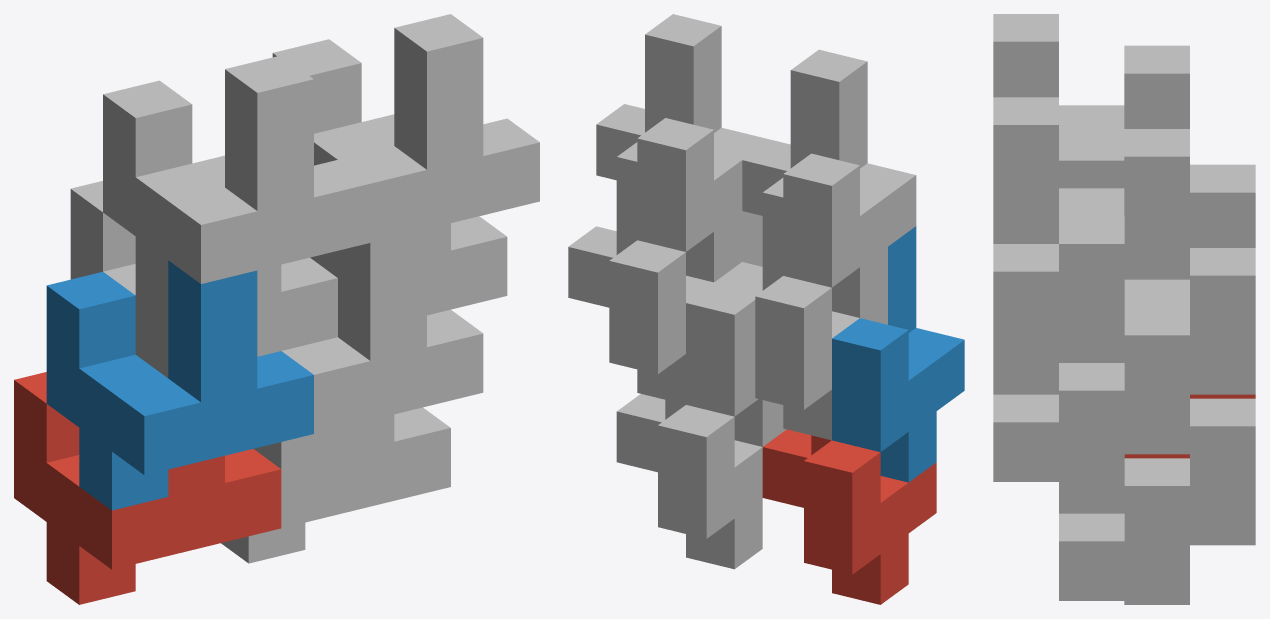
The model's file is tiling.obj.
3 renders of one model, left to right at view 1: azimuth 30°, elevation 25°; view 2: azimuth 150°, elevation 25°; view 3: azimuth 270°, elevation 25°, orthographic. The views are drawn at different scales.
Visible parts, largest first — view 1: copy_1_domain_2, copy_1_domain_4, copy_1_domain_8, copy_1_domain_1, copy_1_domain_6, copy_1_domain_5, copy_1_domain_3, copy_1_domain_7; view 2: copy_1_domain_4, copy_1_domain_8, copy_1_domain_2, copy_1_domain_1, copy_1_domain_5, copy_1_domain_7, copy_1_domain_3, copy_1_domain_6; view 3: copy_1_domain_7, copy_1_domain_5, copy_1_domain_8, copy_1_domain_4, copy_1_domain_6, copy_1_domain_3, copy_1_domain_1.
Boxes of the visible parts, x1,y1,x2,y2 form: copy_1_domain_2: [46, 260, 313, 510]; copy_1_domain_4: [103, 55, 370, 318]; copy_1_domain_8: [272, 14, 539, 277]; copy_1_domain_1: [14, 372, 281, 604]; copy_1_domain_6: [253, 229, 483, 468]; copy_1_domain_5: [221, 407, 450, 563]; copy_1_domain_3: [70, 155, 337, 377]; copy_1_domain_7: [362, 114, 507, 315]; copy_1_domain_4: [742, 49, 916, 317]; copy_1_domain_8: [596, 14, 769, 282]; copy_1_domain_2: [832, 226, 964, 482]; copy_1_domain_1: [762, 429, 936, 604]; copy_1_domain_5: [616, 394, 762, 569]; copy_1_domain_7: [568, 142, 713, 404]; copy_1_domain_3: [714, 178, 887, 440]; copy_1_domain_6: [686, 211, 786, 446]; copy_1_domain_7: [1059, 216, 1255, 454]; copy_1_domain_5: [1059, 398, 1255, 604]; copy_1_domain_8: [993, 97, 1189, 331]; copy_1_domain_4: [993, 14, 1189, 132]; copy_1_domain_6: [993, 279, 1189, 481]; copy_1_domain_3: [1059, 133, 1255, 279]; copy_1_domain_1: [1124, 394, 1255, 458].
Bounding box in the file's own units: 7 × 9 × 4.
